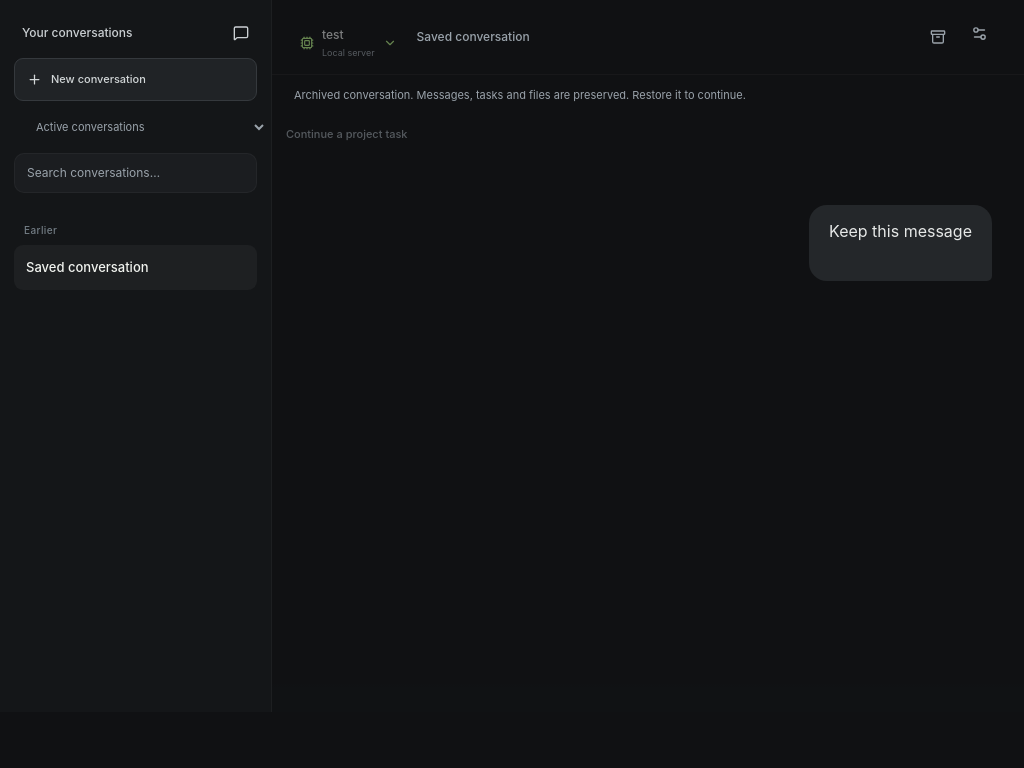
Test case: preserves read-only detail when restoration fails
Click the button named "Restore conversation" at (938, 37), box [916,19,960,55]
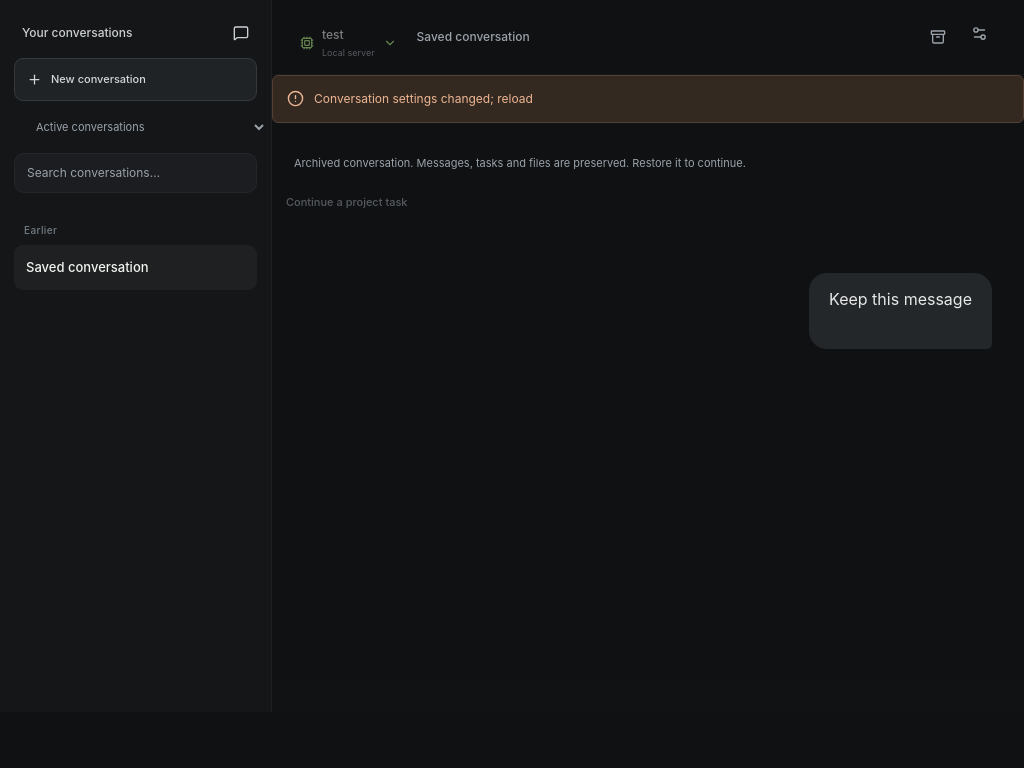
Expected: the text "Keep this message" is shown, [829,285,972,313]
Result: the text "Conversation settings changed; reload" is shown at [272,74,1023,122]
